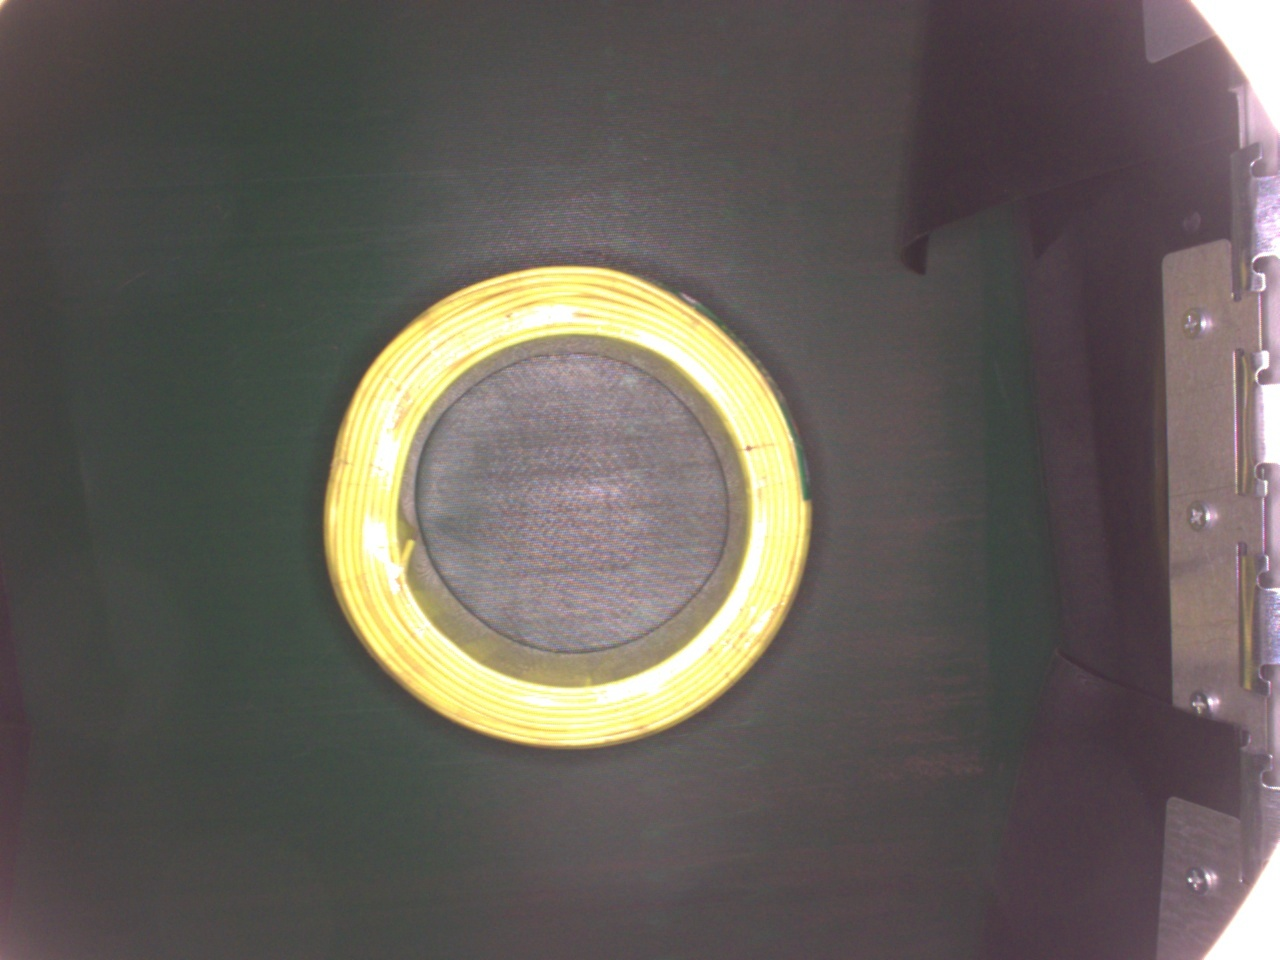yellow: (322, 261, 809, 743)
